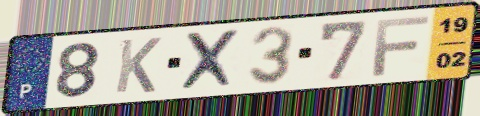3: (248, 25, 296, 88)
7: (317, 19, 370, 82)
8: (54, 41, 102, 100)
F: (370, 14, 433, 78)
K: (112, 36, 164, 96)
X: (178, 27, 242, 94)
